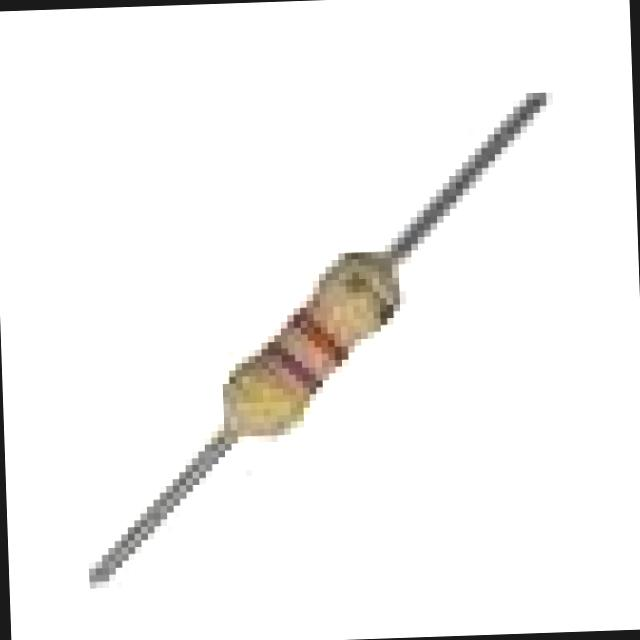Resistor: (222, 258, 393, 436)
brown: (292, 306, 349, 364)
gold: (331, 260, 394, 322)
purple: (265, 342, 317, 394)
yellow: (231, 368, 296, 424)
